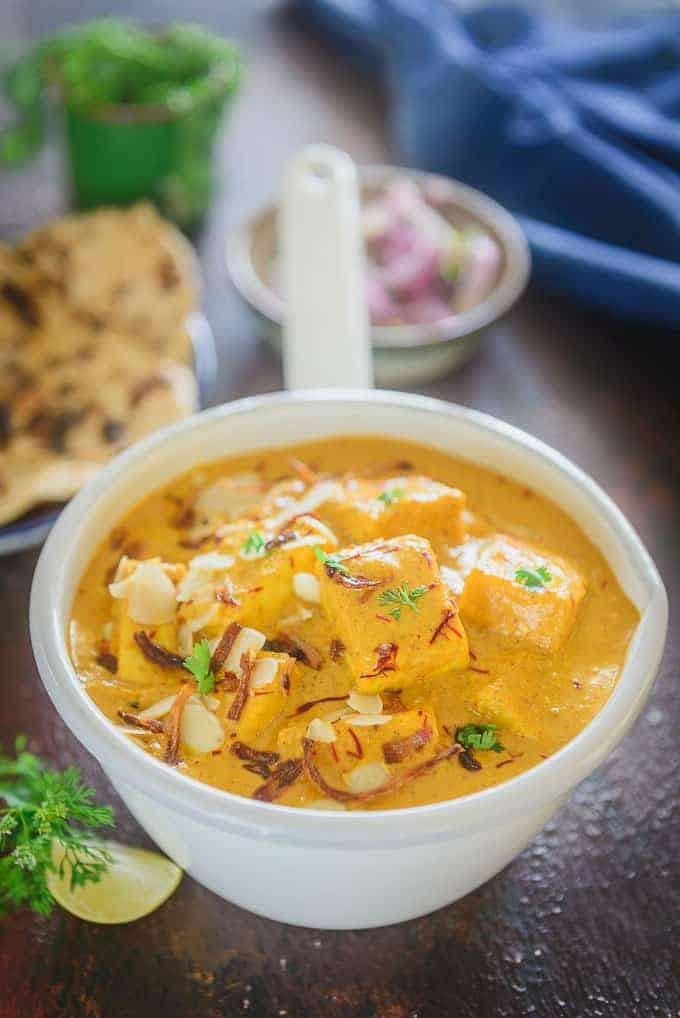ShahiPaneer: (73, 441, 637, 811)
